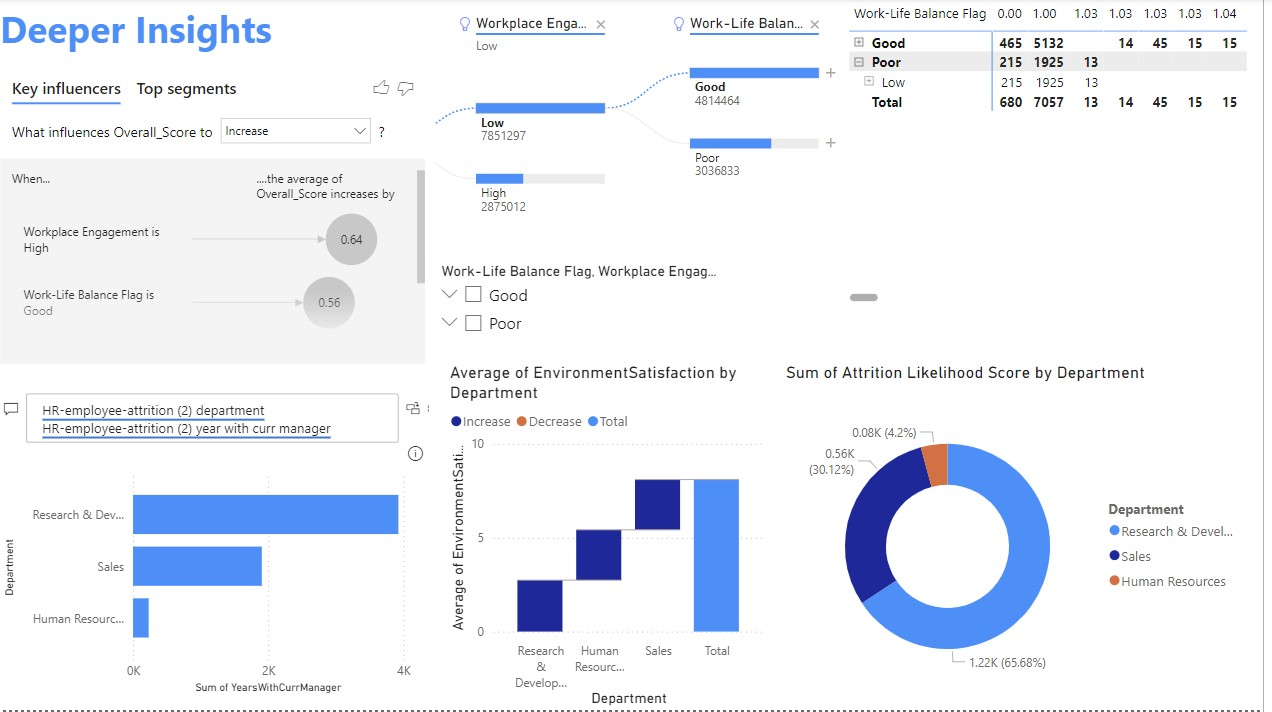

The dashboard page shown, as its layout file describes it:
{"tool":"powerbi","page":{"name":"Deeper insights","canvas":[1280,720],"ordinal":1},"visuals":[{"type":"keyDriversVisual","fields":{"ExplainBy":["Sum(HR-Employee-Attrition (2).Salary-Experience Ratio)","HR-Employee-Attrition (2).Workplace Engagement","Sum(HR-Employee-Attrition (2).WorkLifeBalance)","Sum(HR-Employee-Attrition (2).YearsAtCompany)","HR-Employee-Attrition (2).Work-Life Balance Flag"],"Target":["HR-Employee-Attrition (2).Overall_Score"]},"box":[0,71.2,454.3,302.8],"z":0},{"type":"decompositionTreeVisual","fields":{"Analyze":["Sum(HR-Employee-Attrition (2).Total Compensation)"],"ExplainBy":["HR-Employee-Attrition (2).Workplace Engagement","HR-Employee-Attrition (2).Work-Life Balance Flag","HR-Employee-Attrition (2).Salary-Experience Ratio","HR-Employee-Attrition (2).Overall_Score"]},"box":[438.4,0,418,244.1],"z":1000},{"type":"qnaVisual","box":[0,374,438,346],"z":2000},{"type":"pivotTable","fields":{"Rows":["HR-Employee-Attrition (2).Work-Life Balance Flag","HR-Employee-Attrition (2).Workplace Engagement","HR-Employee-Attrition (2).Total Compensation"],"Columns":["HR-Employee-Attrition (2).Overall_Score"],"Values":["Sum(HR-Employee-Attrition (2).PercentSalaryHike)"]},"box":[857,0,411.9,311.9],"z":3000},{"type":"slicer","fields":{"Values":["HR-Employee-Attrition (2).Work-Life Balance Flag","HR-Employee-Attrition (2).Workplace Engagement","HR-Employee-Attrition (2).StockOptionLevel"]},"box":[437.6,262,313.4,98.4],"z":4000},{"type":"waterfallChart","fields":{"Category":["HR-Employee-Attrition (2).Department"],"Y":["Avg(HR-Employee-Attrition (2).EnvironmentSatisfaction)"]},"box":[454.3,368,327.1,351.3],"z":5000},{"type":"donutChart","fields":{"Category":["HR-Employee-Attrition (2).Department"],"Y":["Sum(HR-Employee-Attrition (2).Attrition Likelihood Score)"]},"box":[793.4,368,475.5,351.3],"z":6000},{"type":"textbox","box":[24.2,0,313.4,71.2],"z":6001}]}

Visuals, with their boxes in screenshot pixels (x1, y1, x2, y2), scaled from the page's 1280x720 canvas onto the 1272x712 screenshot:
keyDriversVisual - Sum(HR-Employee-Attrition (2).Salary-Experience Ratio) x HR-Employee-Attrition (2).Workplace Engagement: [left=0, top=70, right=451, bottom=370]
decompositionTreeVisual - Sum(HR-Employee-Attrition (2).Total Compensation) x HR-Employee-Attrition (2).Workplace Engagement: [left=436, top=0, right=851, bottom=241]
qnaVisual: [left=0, top=370, right=435, bottom=711]
pivotTable - HR-Employee-Attrition (2).Work-Life Balance Flag x HR-Employee-Attrition (2).Workplace Engagement: [left=852, top=0, right=1261, bottom=308]
slicer - HR-Employee-Attrition (2).Work-Life Balance Flag x HR-Employee-Attrition (2).Workplace Engagement: [left=435, top=259, right=746, bottom=356]
waterfallChart - HR-Employee-Attrition (2).Department x Avg(HR-Employee-Attrition (2).EnvironmentSatisfaction): [left=451, top=364, right=777, bottom=711]
donutChart - HR-Employee-Attrition (2).Department x Sum(HR-Employee-Attrition (2).Attrition Likelihood Score): [left=788, top=364, right=1261, bottom=711]
textbox: [left=24, top=0, right=335, bottom=70]
